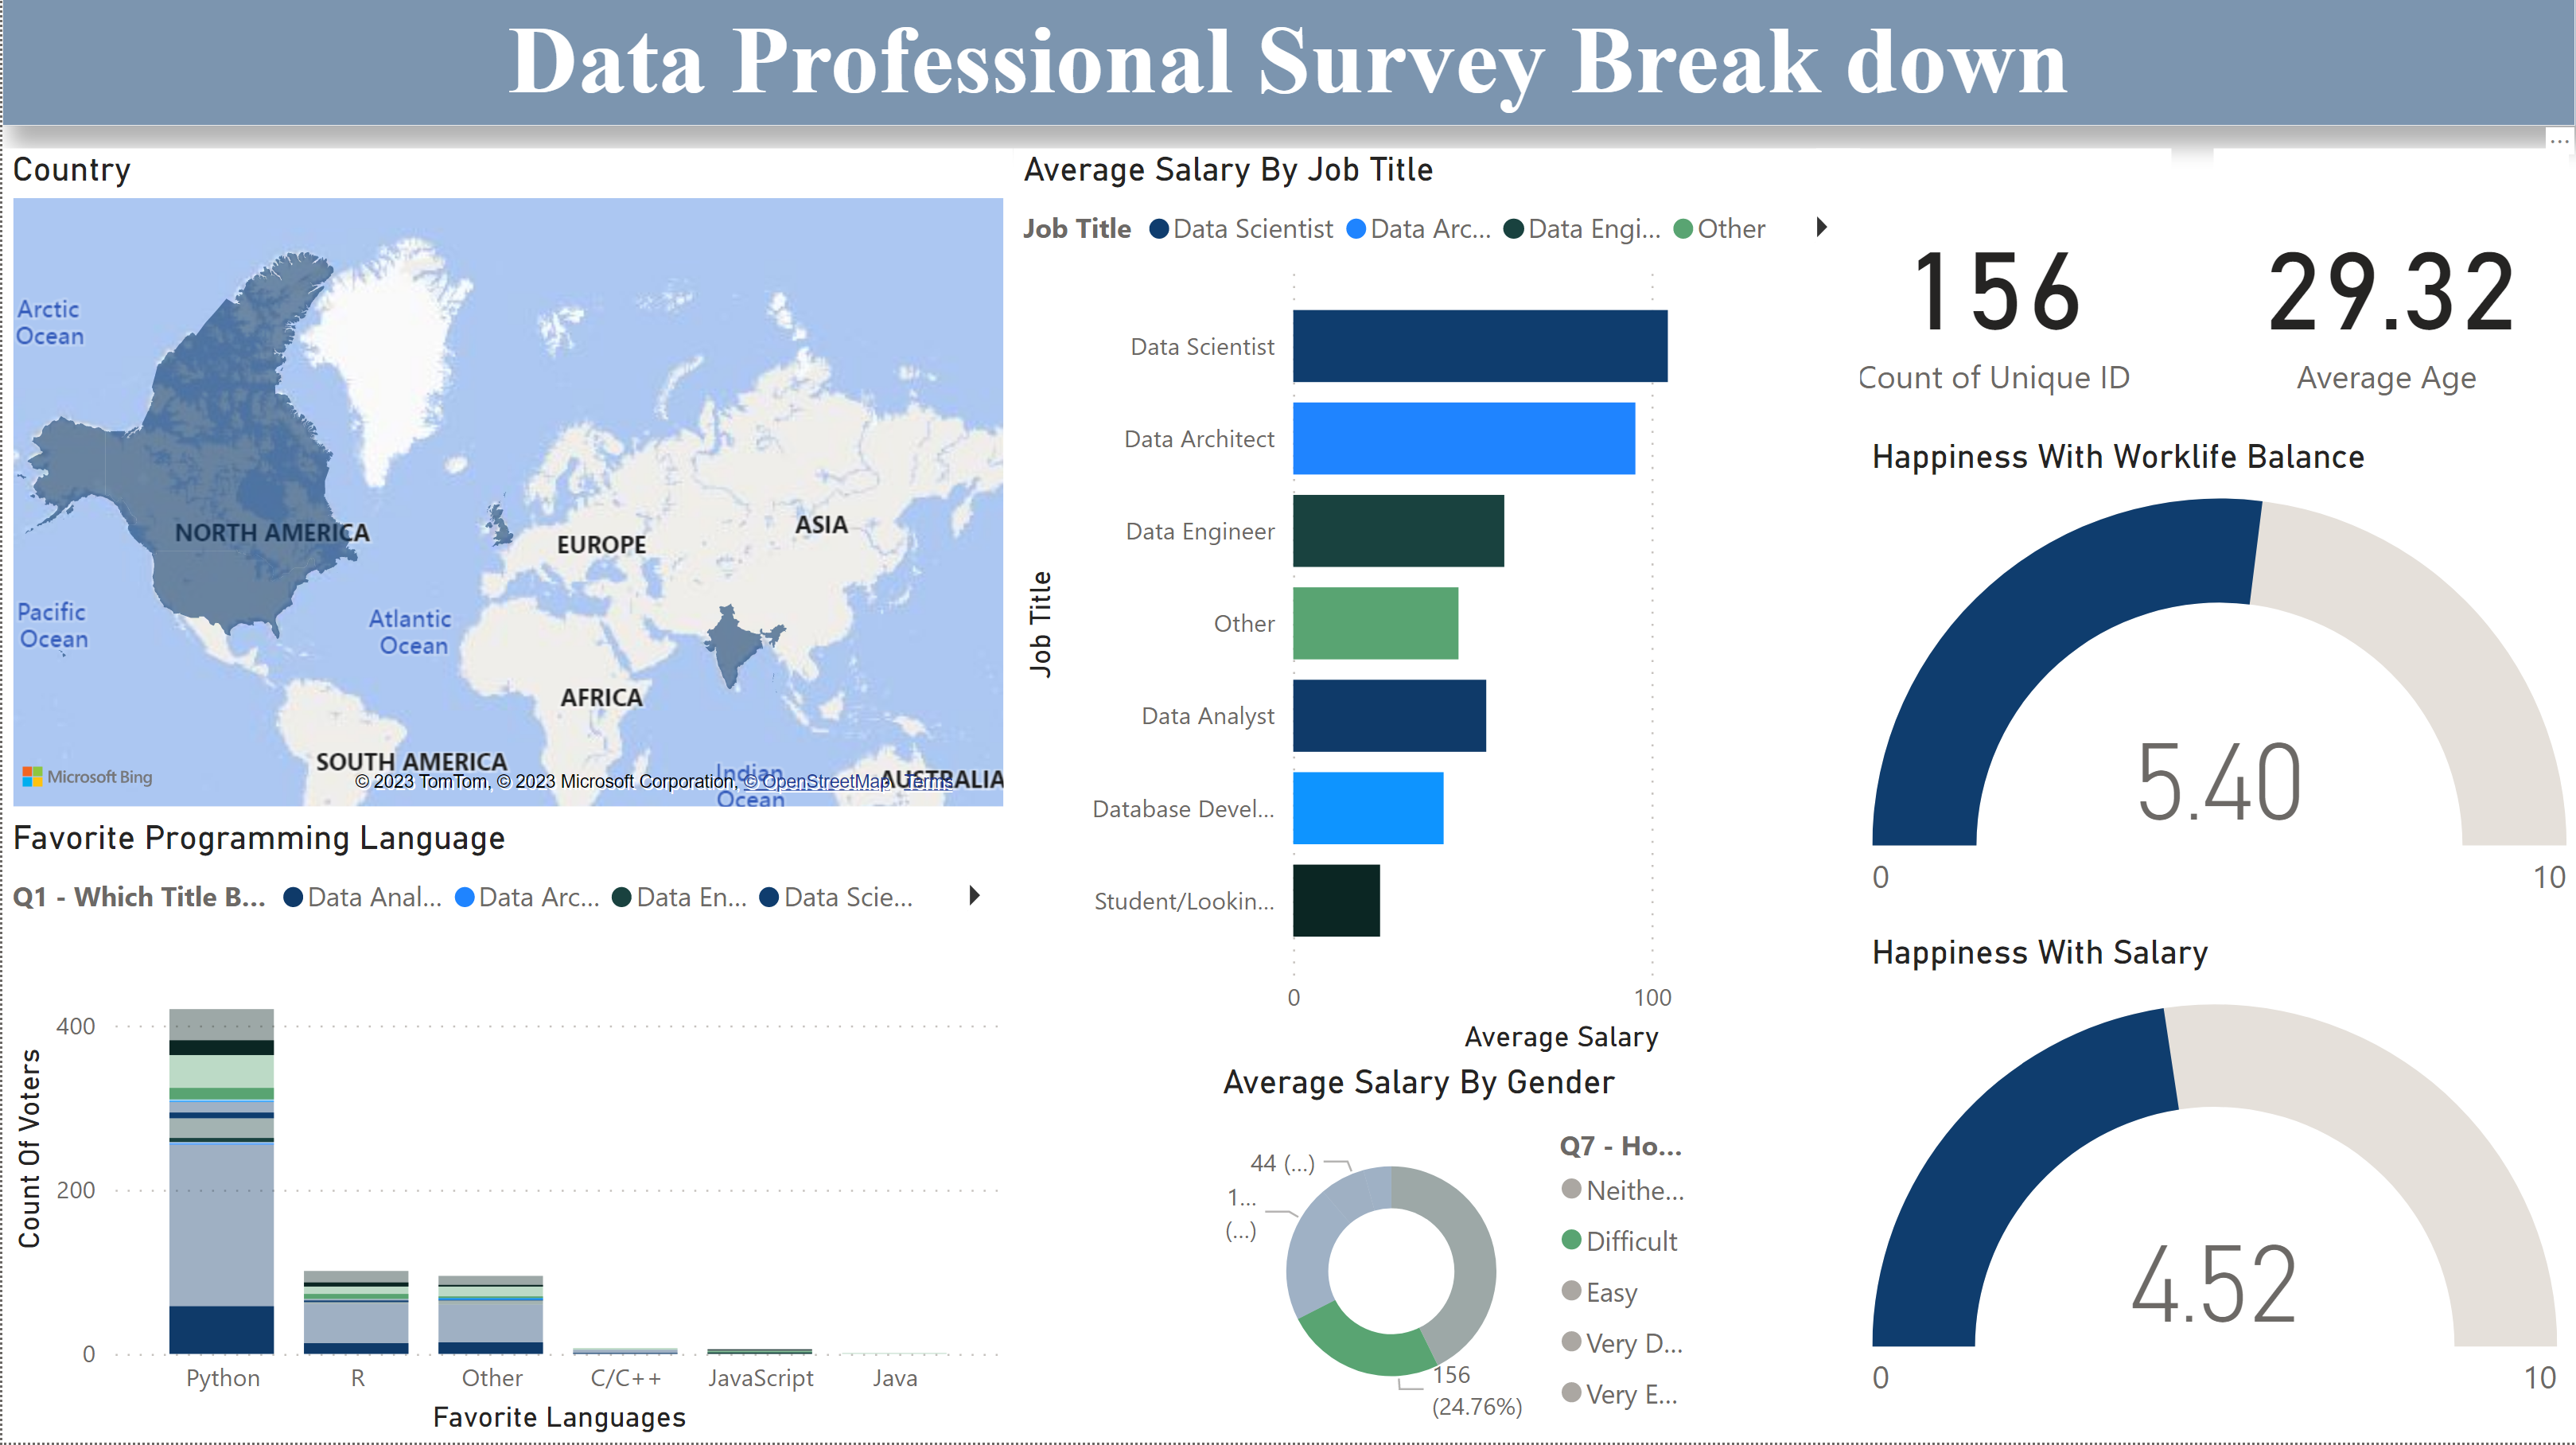

This screenshot's page, from the dashboard's own definition file:
{"tool":"powerbi","page":{"name":"Page 1","canvas":[1280,720],"ordinal":0},"visuals":[{"type":"textbox","box":[0,0,1280,65.1],"z":0},{"type":"card","fields":{"Values":["Count(Data Professional Survey.Unique ID)"]},"box":[902.5,76.7,176.6,148.7],"z":1000},{"type":"card","fields":{"Values":["Avg(Data Professional Survey.Q10 - Current Age)"]},"box":[1100,76.7,176.6,148.7],"z":2000},{"type":"barChart","title":"Average Salary By Job Title","fields":{"Category":["Data Professional Survey.Q1 - Which Title Best Fits your Current Role?.1"],"Y":["Avg(Data Professional Survey.Average Salary)"],"Series":["Data Professional Survey.Q1 - Which Title Best Fits your Current Role?.1"]},"box":[502.9,76.7,421.6,454.2],"z":3000},{"type":"columnChart","title":"Favorite Programming Language","fields":{"Category":["Data Professional Survey.Q5 - Favorite Programming Language.1.1"],"Y":["CountNonNull(Data Professional Survey.Unique ID)"],"Series":["Data Professional Survey.Q1 - Which Title Best Fits your Current Role?.1"]},"box":[0,408.9,502.9,311.3],"z":4000},{"type":"filledMap","fields":{"Category":["Data Professional Survey.Q11 - Which Country do you live in?.1"]},"box":[0,76.7,502.9,332.2],"z":5000},{"type":"gauge","title":"Happiness With Worklife Balance","fields":{"Y":["Avg(Data Professional Survey.Q6 - How Happy are you in your Current Position with the following? (Work/Life Balance))"],"MinValue":["Min(Data Professional Survey.Q6 - How Happy are you in your Current Position with the following? (Work/Life Balance))1"],"MaxValue":["Max(Data Professional Survey.Q6 - How Happy are you in your Current Position with the following? (Work/Life Balance))"]},"box":[924.6,219.5,355.4,246.2],"z":6000},{"type":"gauge","title":"Happiness With Salary ","fields":{"Y":["Avg(Data Professional Survey.Q6 - How Happy are you in your Current Position with the following? (Upward Mobility))"],"MinValue":["Min(Data Professional Survey.Q6 - How Happy are you in your Current Position with the following? (Upward Mobility))"],"MaxValue":["Max(Data Professional Survey.Q6 - How Happy are you in your Current Position with the following? (Upward Mobility))1"]},"box":[924.6,465.8,350.8,254.4],"z":7000},{"type":"donutChart","title":"Average Salary By Gender","fields":{"Category":["Data Professional Survey.Q7 - How difficult was it for you to break into Data?"],"Y":["CountNonNull(Data Professional Survey.Q7 - How difficult was it for you to break into Data?)"]},"box":[601.7,530.8,249.7,189.3],"z":8000}]}

Visuals, with their boxes in screenshot pixels (x1, y1, x2, y2), scaled from the page's 1280x720 canvas onto the 2576x1445 screenshot:
textbox: 0/0/2575/130
card - Count(Data Professional Survey.Unique ID): 1816/154/2172/453
card - Avg(Data Professional Survey.Q10 - Current Age): 2214/154/2569/453
"Average Salary By Job Title" barChart: 1012/154/1861/1065
"Favorite Programming Language" columnChart: 0/820/1012/1444
filledMap - Data Professional Survey.Q11 - Which Country do you live in?.1: 0/154/1012/820
"Happiness With Worklife Balance" gauge: 1861/441/2575/935
"Happiness With Salary " gauge: 1861/935/2566/1444
"Average Salary By Gender" donutChart: 1211/1065/1714/1444
